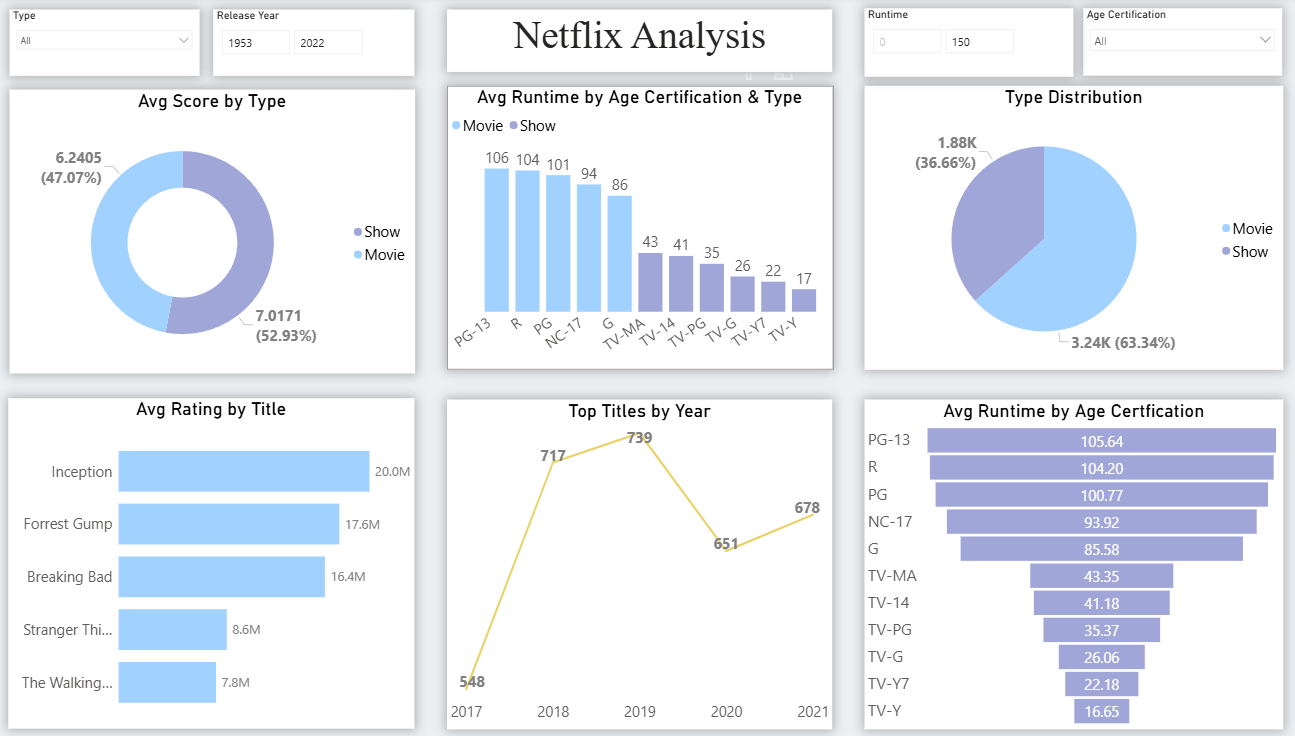

What the dashboard file says about the page in this screenshot:
{"tool":"powerbi","page":{"name":"Netflix Analysis Dashboard","canvas":[1920,1080],"ordinal":0},"visuals":[{"type":"donutChart","title":"Avg Score by Type","fields":{"Category":["Netflix TV Shows and Movies.type"],"Y":["Avg(Netflix TV Shows and Movies.imdb_score)"]},"box":[47.3,134.3,587,410.9],"z":0},{"type":"barChart","title":"Avg Rating by Title","fields":{"Category":["Netflix TV Shows and Movies.title"],"Y":["Avg(Netflix TV Shows and Movies.imdb_rating)"]},"box":[45.1,581.5,587.7,478.7],"z":1000},{"type":"lineChart","title":"Top Titles by Year","fields":{"Category":["Netflix TV Shows and Movies.release_year"],"Y":["CountNonNull(Netflix TV Shows and Movies.title)"]},"box":[680.8,582,558,477.9],"z":2000},{"type":"columnChart","title":"Avg Runtime by Age Certification & Type","fields":{"Y":["Avg(Netflix TV Shows and Movies.runtime)"],"Category":["Netflix TV Shows and Movies.age_certification"],"Series":["Netflix TV Shows and Movies.type"]},"box":[680.8,128.1,558,411.1],"z":3000},{"type":"funnel","title":"Avg Runtime by Age Certfication","fields":{"Category":["Netflix TV Shows and Movies.age_certification"],"Y":["Avg(Netflix TV Shows and Movies.runtime)"]},"box":[1284.1,582,606,477.9],"z":4000},{"type":"pieChart","title":"Type Distribution","fields":{"Category":["Netflix TV Shows and Movies.type"],"Y":["CountNonNull(Netflix TV Shows and Movies.imdb_score)"]},"box":[1284.1,128.1,606,411.1],"z":5000},{"type":"textbox","box":[680.4,18.1,557.4,90.5],"z":6000},{"type":"slicer","title":"Age Certification","fields":{"Values":["Netflix TV Shows and Movies.age_certification"]},"box":[1601.5,16.3,287.7,97.7],"z":7000},{"type":"slicer","title":"Runtime","fields":{"Values":["Netflix TV Shows and Movies.runtime"]},"box":[1284.9,16.3,302.2,99.5],"z":8000},{"type":"slicer","title":"Release Year","fields":{"Values":["Netflix TV Shows and Movies.release_year"]},"box":[342,18.1,291.4,95.9],"z":9000},{"type":"slicer","title":"Type","fields":{"Values":["Netflix TV Shows and Movies.type"]},"box":[47.1,18.1,275.1,95.9],"z":10000}]}

Visuals, with their boxes in screenshot pixels (x1, y1, x2, y2), scaled from the page's 1920x1080 canvas onto the 1295x736 screenshot:
"Avg Score by Type" donutChart: crop(32, 92, 428, 372)
"Avg Rating by Title" barChart: crop(30, 396, 427, 723)
"Top Titles by Year" lineChart: crop(459, 397, 836, 722)
"Avg Runtime by Age Certification & Type" columnChart: crop(459, 87, 836, 367)
"Avg Runtime by Age Certfication" funnel: crop(866, 397, 1275, 722)
"Type Distribution" pieChart: crop(866, 87, 1275, 367)
textbox: crop(459, 12, 835, 74)
"Age Certification" slicer: crop(1080, 11, 1274, 78)
"Runtime" slicer: crop(867, 11, 1070, 79)
"Release Year" slicer: crop(231, 12, 427, 78)
"Type" slicer: crop(32, 12, 217, 78)
